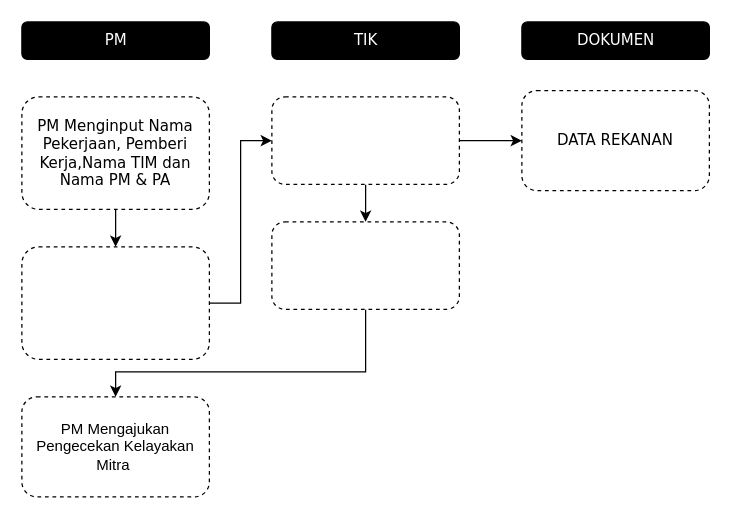
The diagram is 731 pixels wide and 519 high, and some of its shapes have lost their labels. Each missing label, with the centre of its shape:
PM Mengupload File Awal yang dibutuhkan: the point at 115,302
TIK Fix Error apabila terdapat error selama upload file: the point at 365,265
TIK memantau proses upload file dan Input data: the point at 365,140
